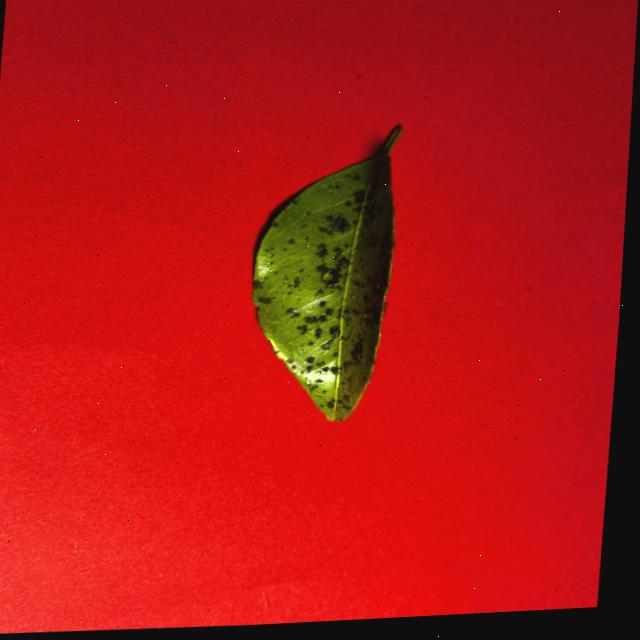sooty_mold: (252, 128, 400, 420)
